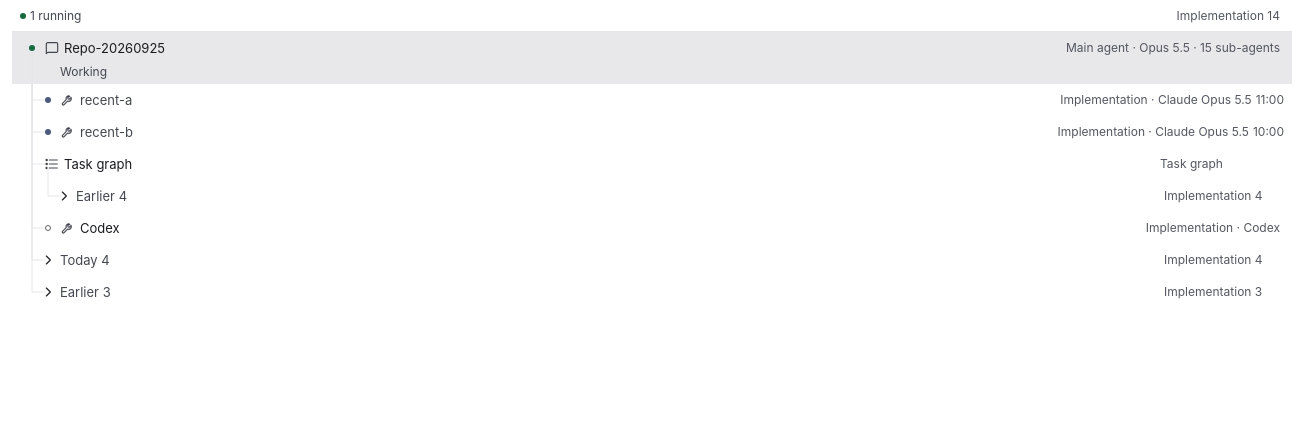
Test: opens task details on a single click (embedded=true)
The image size is (1304, 444).
Click the list item "Earlier 4 Implementation 4": (102, 196) [12,180,1292,212]
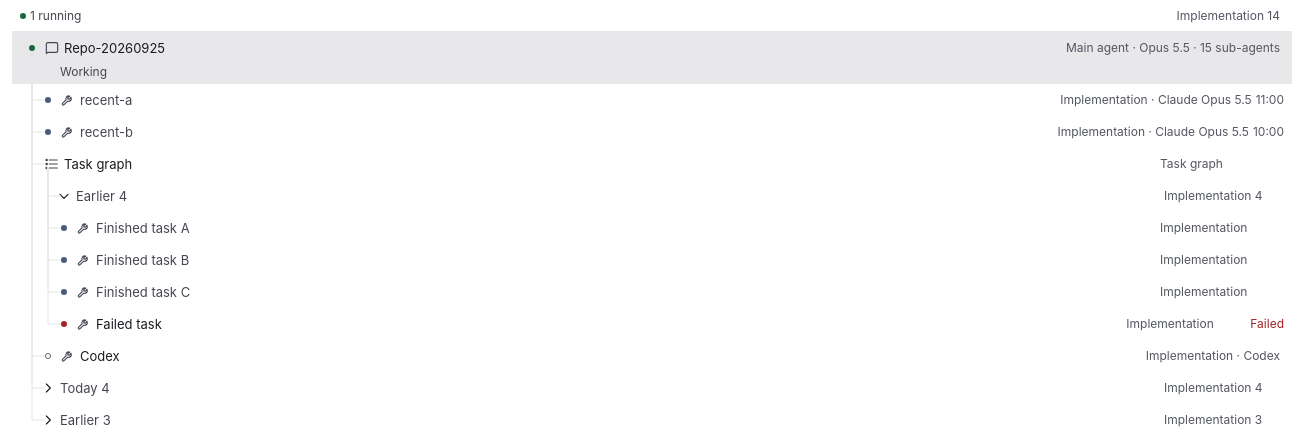
Click the list item "Finished task A Implementation": (143, 228) [12,212,1292,244]
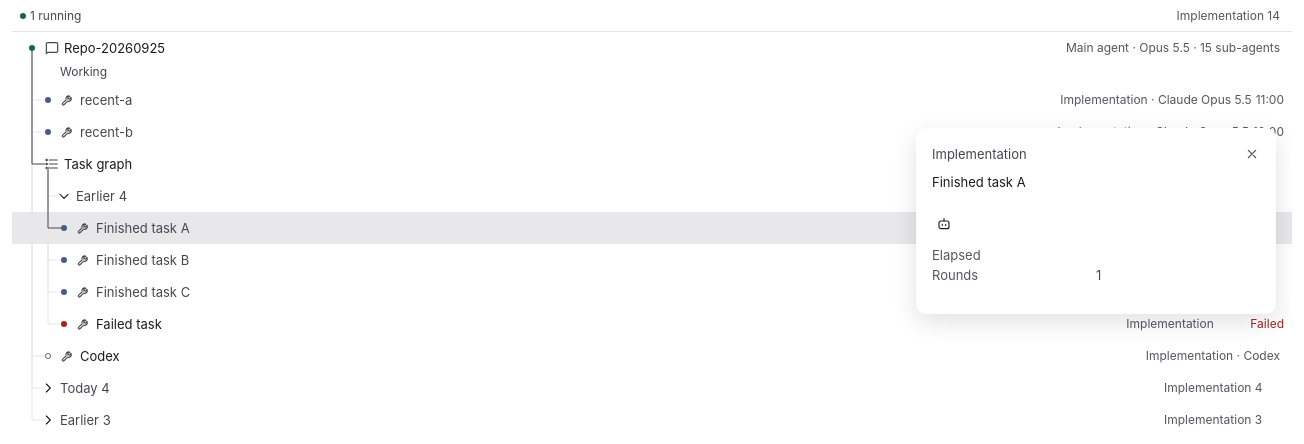
Now the element named "Request" shows "Finished task A", box [932,174,1026,190]
Click the button named "Close details": (1252, 154) [1244,146,1260,162]
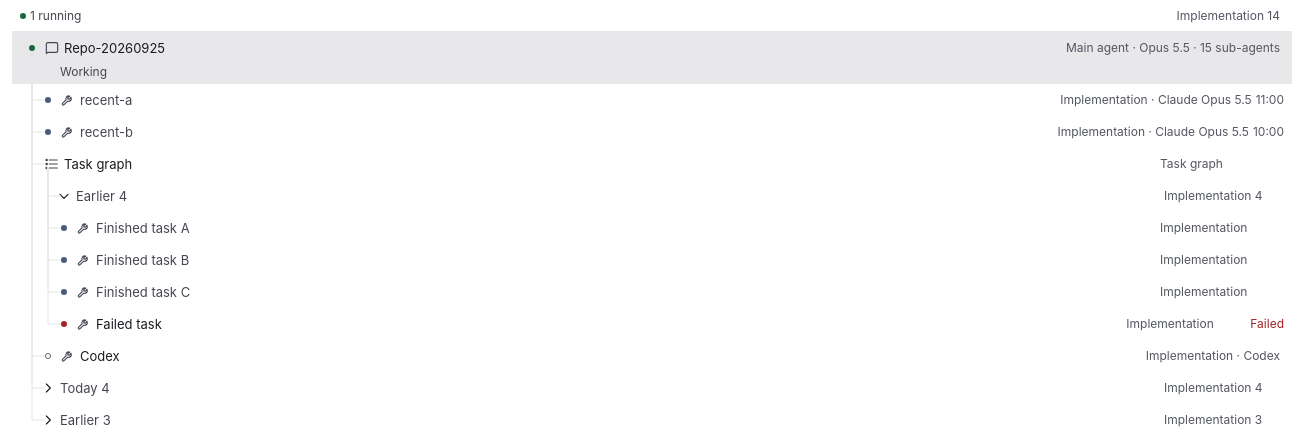
Now the element "Request" is gone
